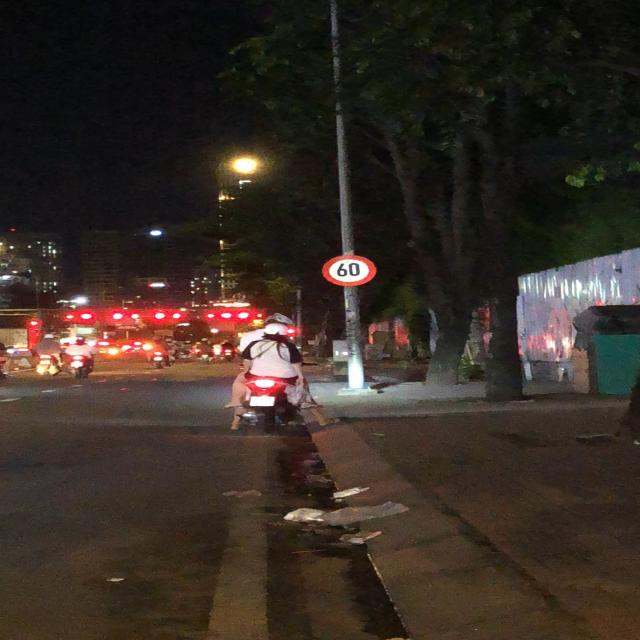Bien bao toc do toi da cho phep: (321, 252, 382, 288)
